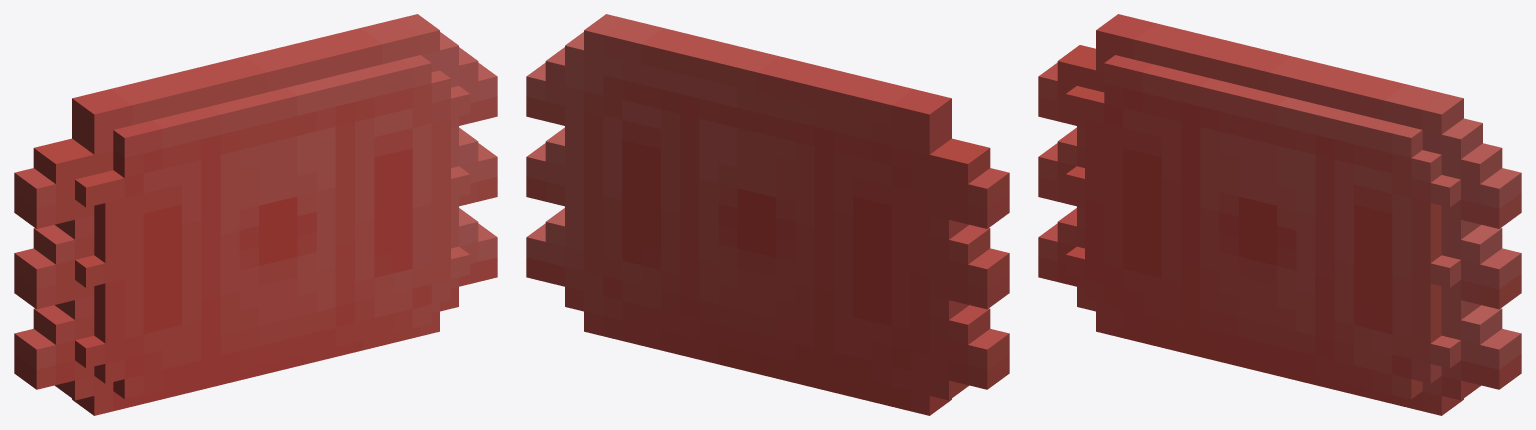
File: tickets-red.glb
The picture shows the model from 3 angles, left to right: view 1: azimuth 30°, elevation 25°; view 2: azimuth 150°, elevation 25°; view 3: azimuth 330°, elevation 25°; orthographic projection.
Parts seen in each view (by area): view 1: prop; view 2: prop; view 3: prop.
Boxes of the visible parts, <box> form: prop: <box>14,14,497,415</box>; prop: <box>526,14,1009,415</box>; prop: <box>1038,14,1521,415</box>.
Size of the model in its own units: 16 by 10 by 2.
